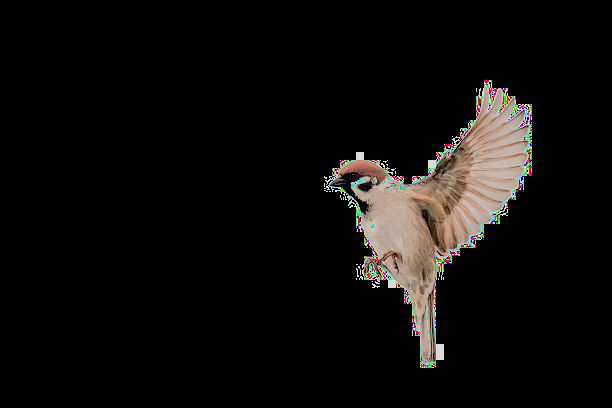Bird: (322, 73, 536, 376)
